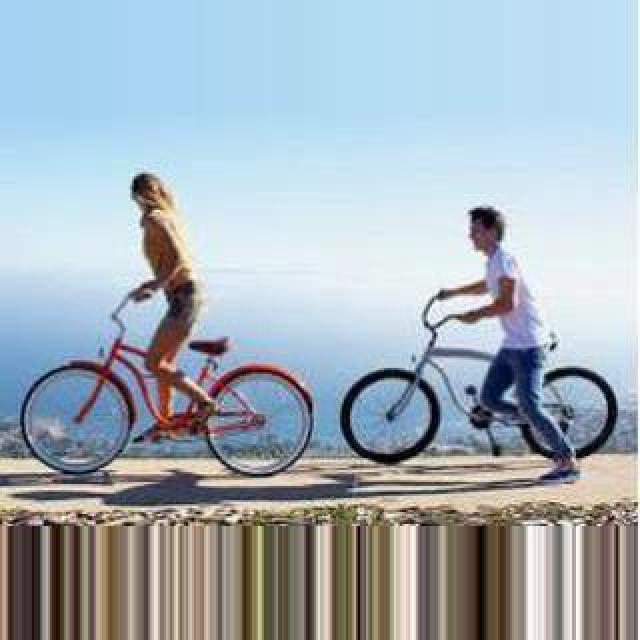MC-Bike: (424, 206, 570, 480), (116, 170, 210, 444)
Person: (23, 298, 315, 480), (341, 301, 617, 475)
